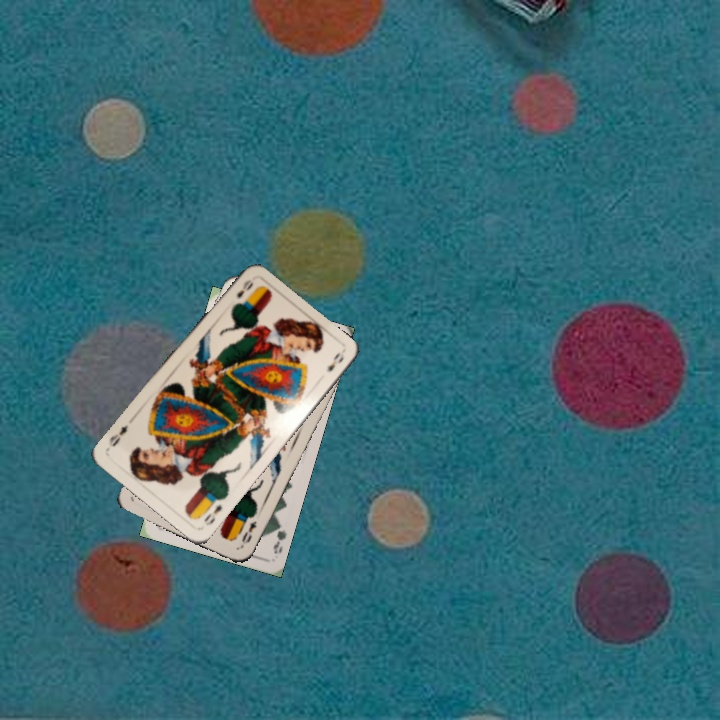EO: (236, 517, 259, 551), (200, 500, 225, 528), (232, 275, 255, 301)
G9: (269, 517, 289, 556)
